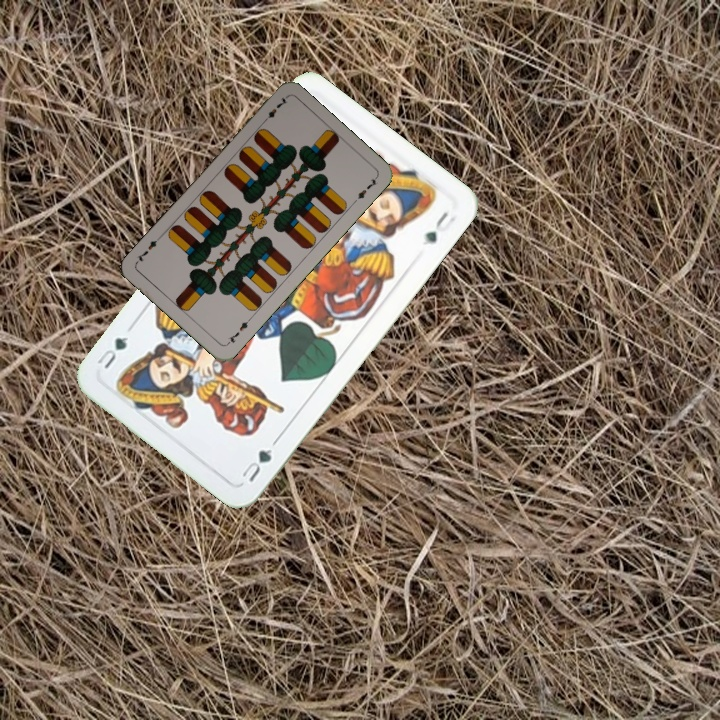E7: (259, 93, 291, 126), (223, 314, 254, 347)
GU: (237, 442, 275, 485)
